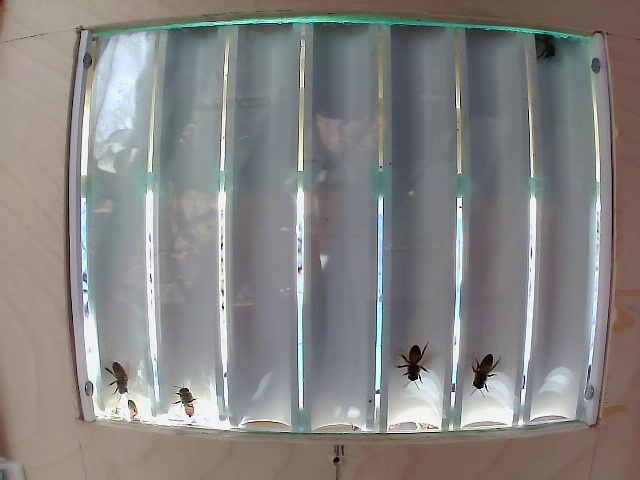bee: (391, 328, 434, 385), (169, 383, 207, 423), (461, 341, 492, 379), (540, 26, 567, 69), (101, 358, 131, 394)
